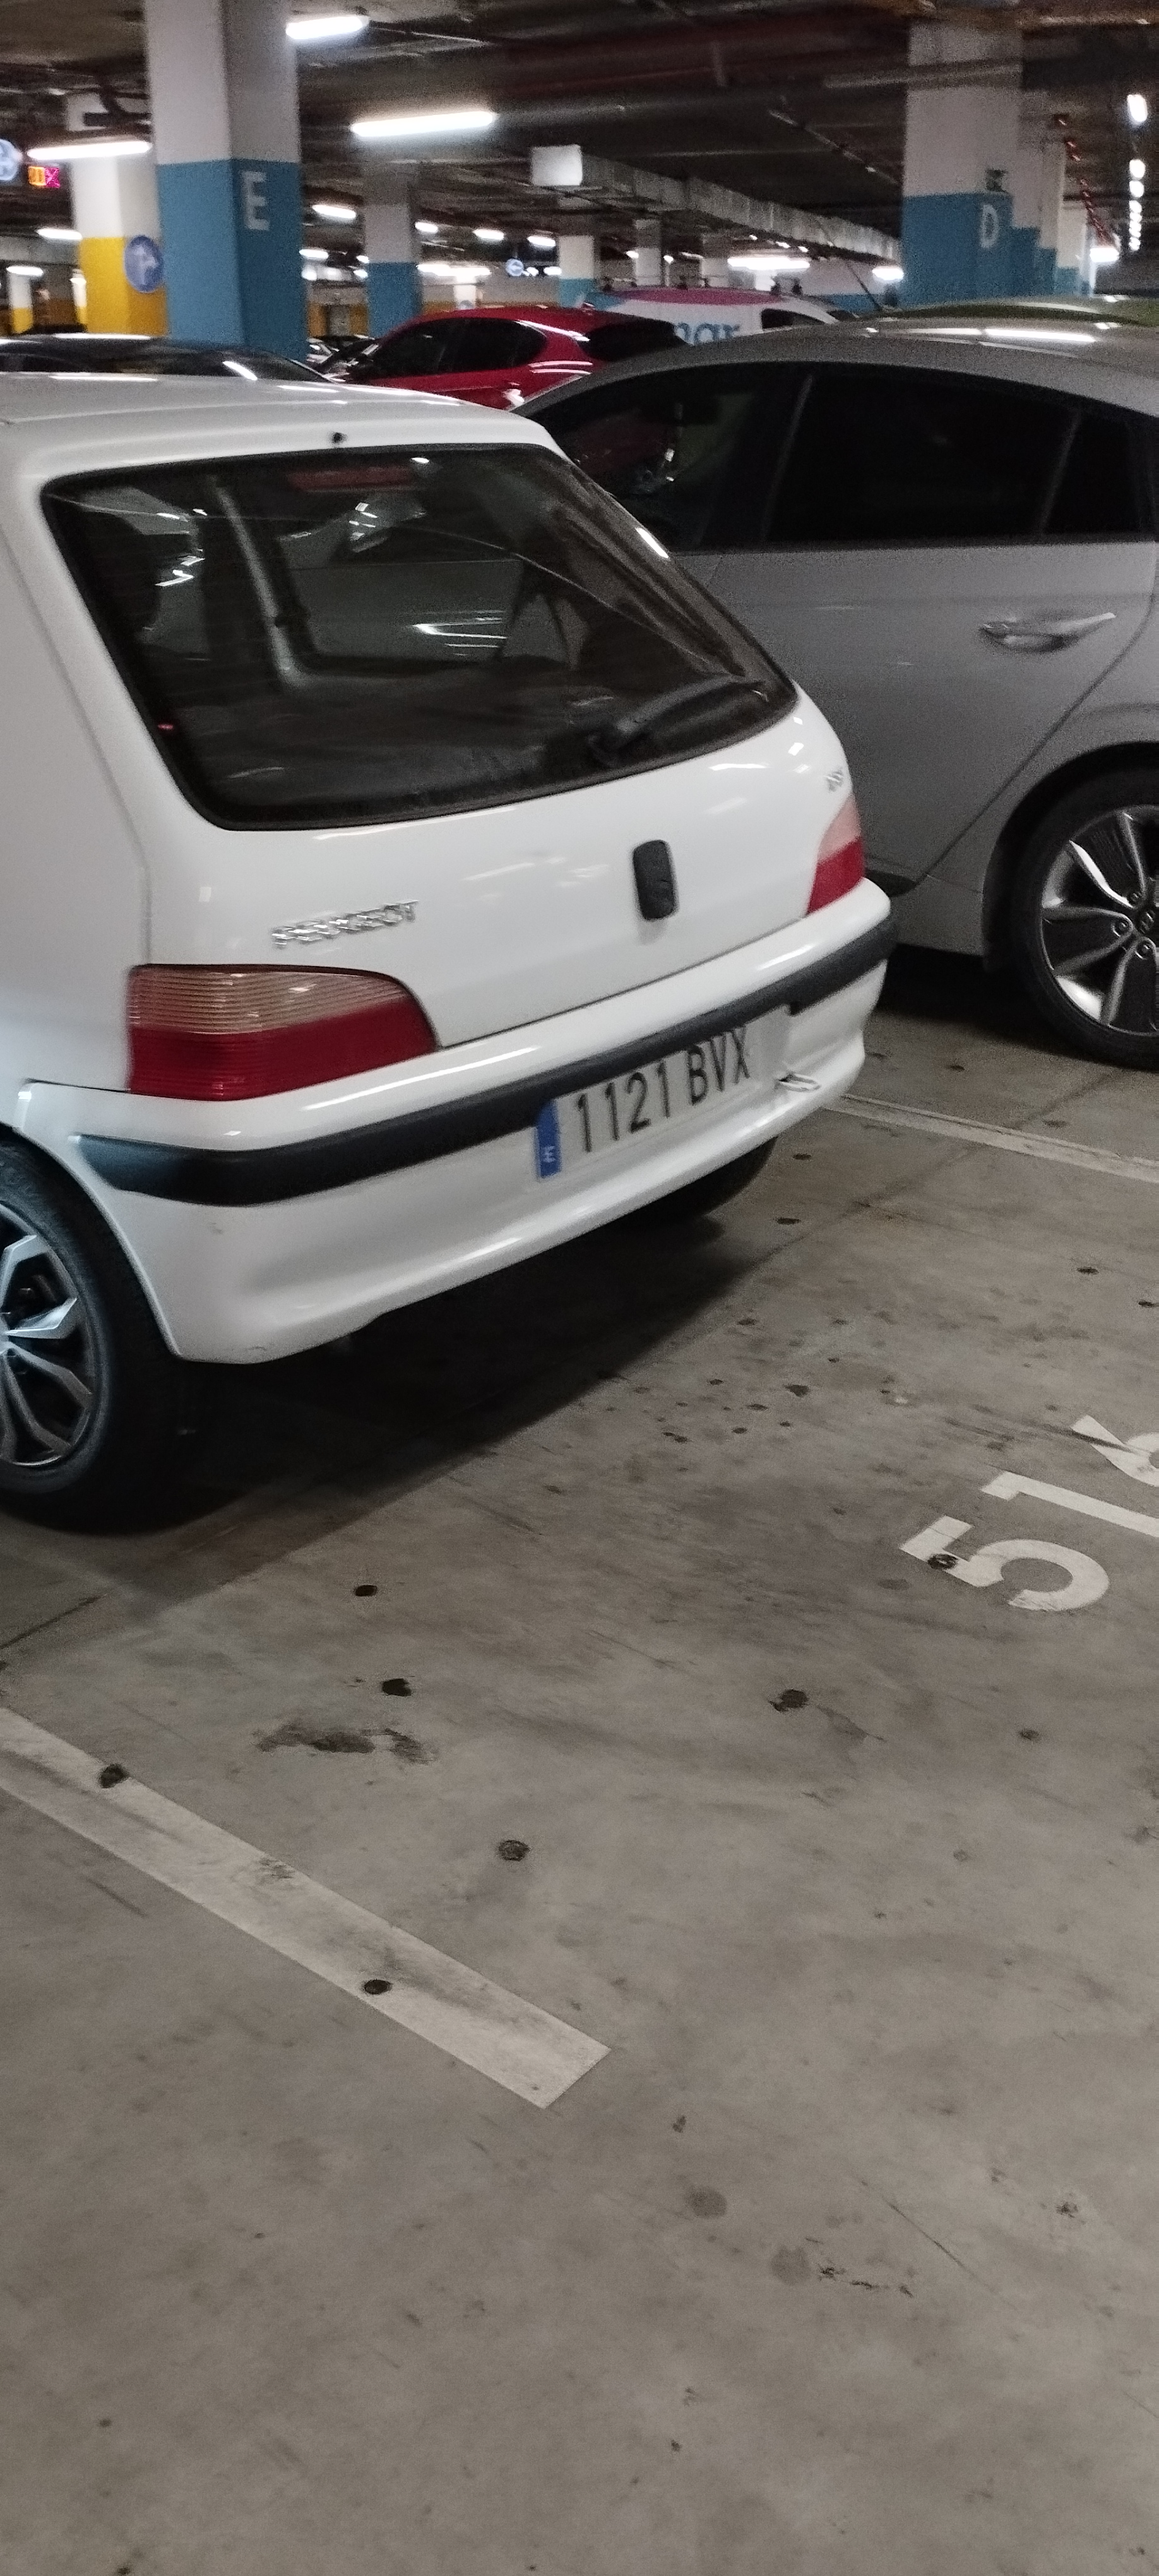Car: (0, 352, 886, 1512)
Plate: (509, 1114, 783, 1198)
